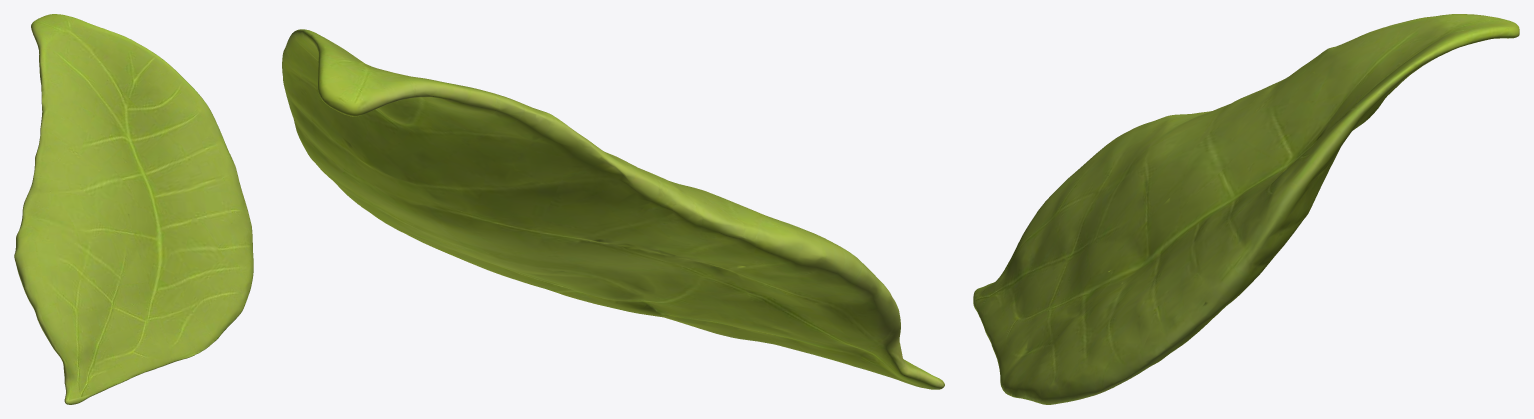
3 renders of one model, left to right at view 1: azimuth 30°, elevation 25°; view 2: azimuth 150°, elevation 25°; view 3: azimuth 270°, elevation 25°, orthographic. The views are drawn at different scales.
Size of the model in its own units: 1.7 by 1.58 by 1.99.
Materials: 1 (1 with a texture image).
